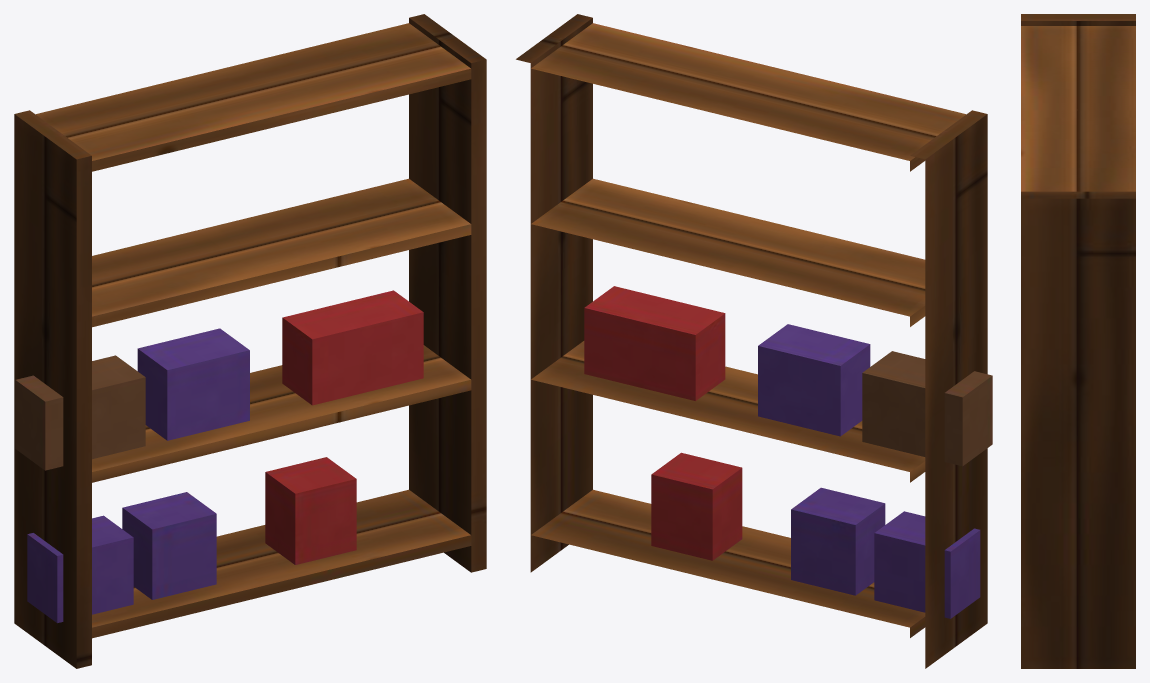
Rendered from bookshelf.glb.
3 views of the same model, side by side, from view 1: azimuth 30°, elevation 25°; view 2: azimuth 150°, elevation 25°; view 3: azimuth 270°, elevation 25° (orthographic). The views are drawn at different scales.
Visible parts, largest first — view 1: bookshelf_mesh; view 2: bookshelf_mesh; view 3: bookshelf_mesh.
Part boxes in pixels (x1,y1,x2,y2): bookshelf_mesh: (14,14,486,668); bookshelf_mesh: (516,14,992,668); bookshelf_mesh: (1021,14,1135,668).
Bounding box in the file's own units: 1.67 × 1.9 × 0.42.
Materials: 1 (1 with a texture image).
